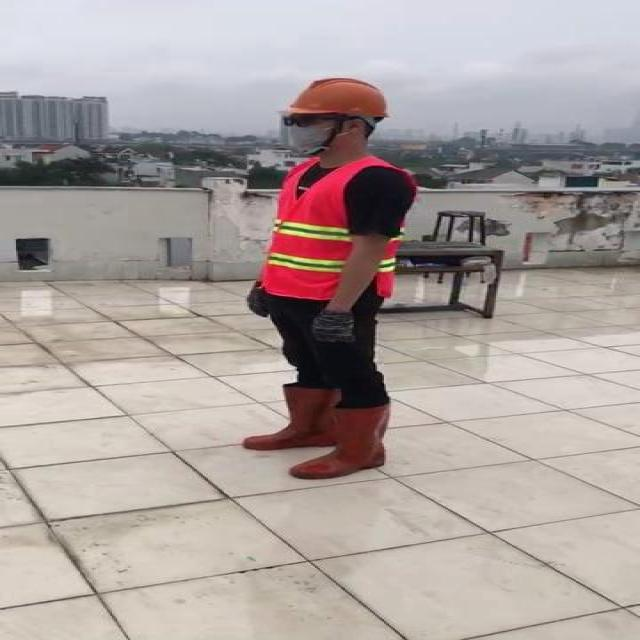boots: (292, 397, 398, 480), (240, 379, 336, 451)
face_mask: (278, 112, 332, 150)
glasses: (278, 110, 332, 130)
hand_glove: (310, 310, 356, 346)
head_helmet: (284, 75, 394, 118)
person: (240, 72, 427, 484)
vest: (263, 153, 420, 299)
